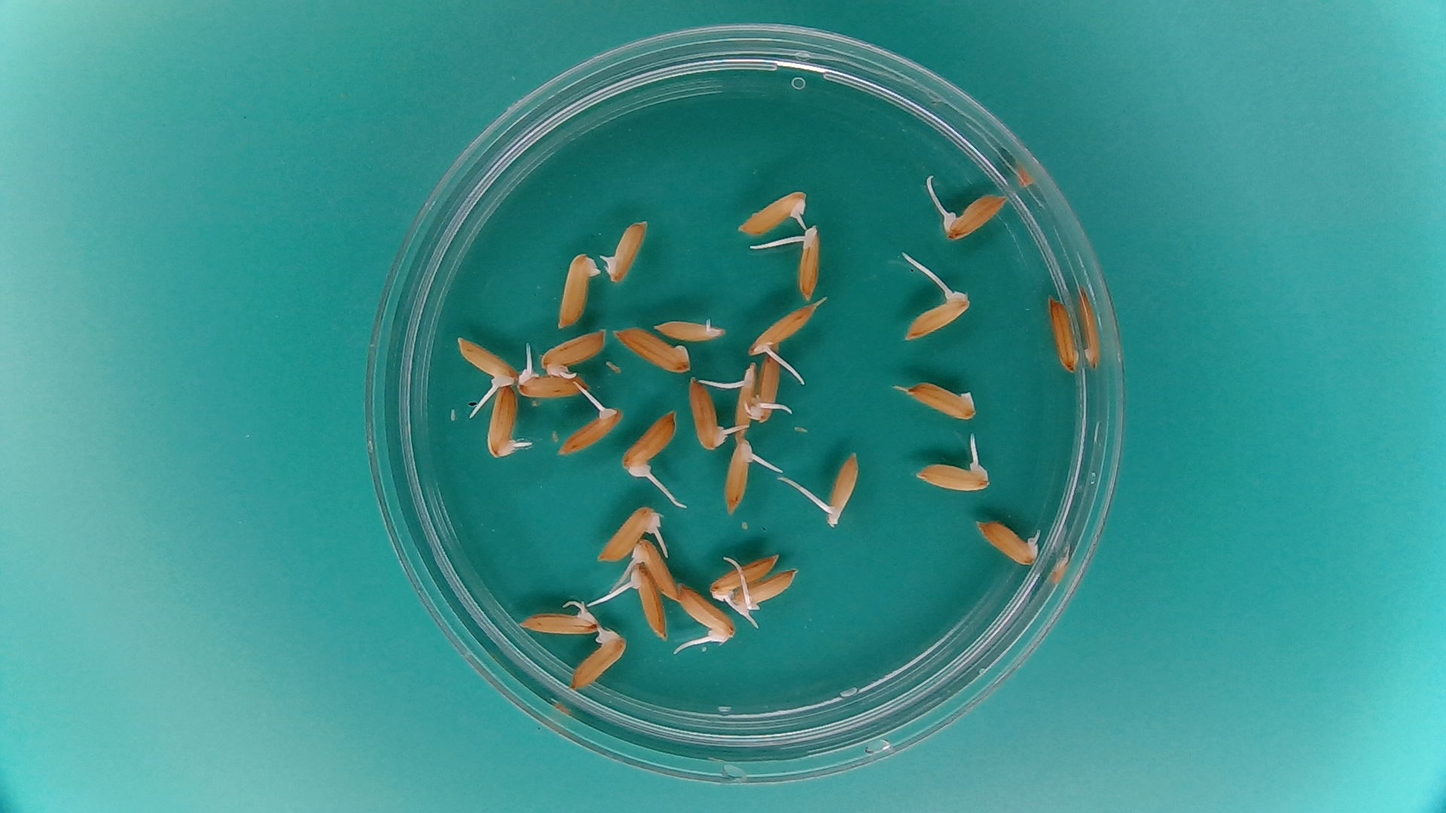no: (614, 324, 694, 375), (553, 248, 602, 330), (1044, 290, 1082, 375), (907, 377, 981, 418)
yes: (745, 301, 821, 358), (555, 397, 620, 456), (687, 376, 737, 452), (708, 553, 782, 604), (594, 505, 660, 562), (567, 631, 627, 691), (973, 516, 1042, 567), (623, 410, 676, 476), (455, 333, 517, 389), (942, 191, 1010, 242), (734, 188, 806, 236), (677, 585, 735, 643), (905, 287, 967, 340), (731, 568, 798, 616), (484, 381, 523, 459), (516, 603, 602, 638), (624, 570, 665, 642), (823, 446, 859, 528), (604, 221, 649, 285), (631, 540, 679, 598), (729, 361, 764, 440), (542, 326, 603, 370), (516, 364, 586, 399), (792, 223, 824, 297), (753, 352, 786, 423), (916, 459, 987, 492), (723, 437, 755, 510), (649, 315, 731, 343)
